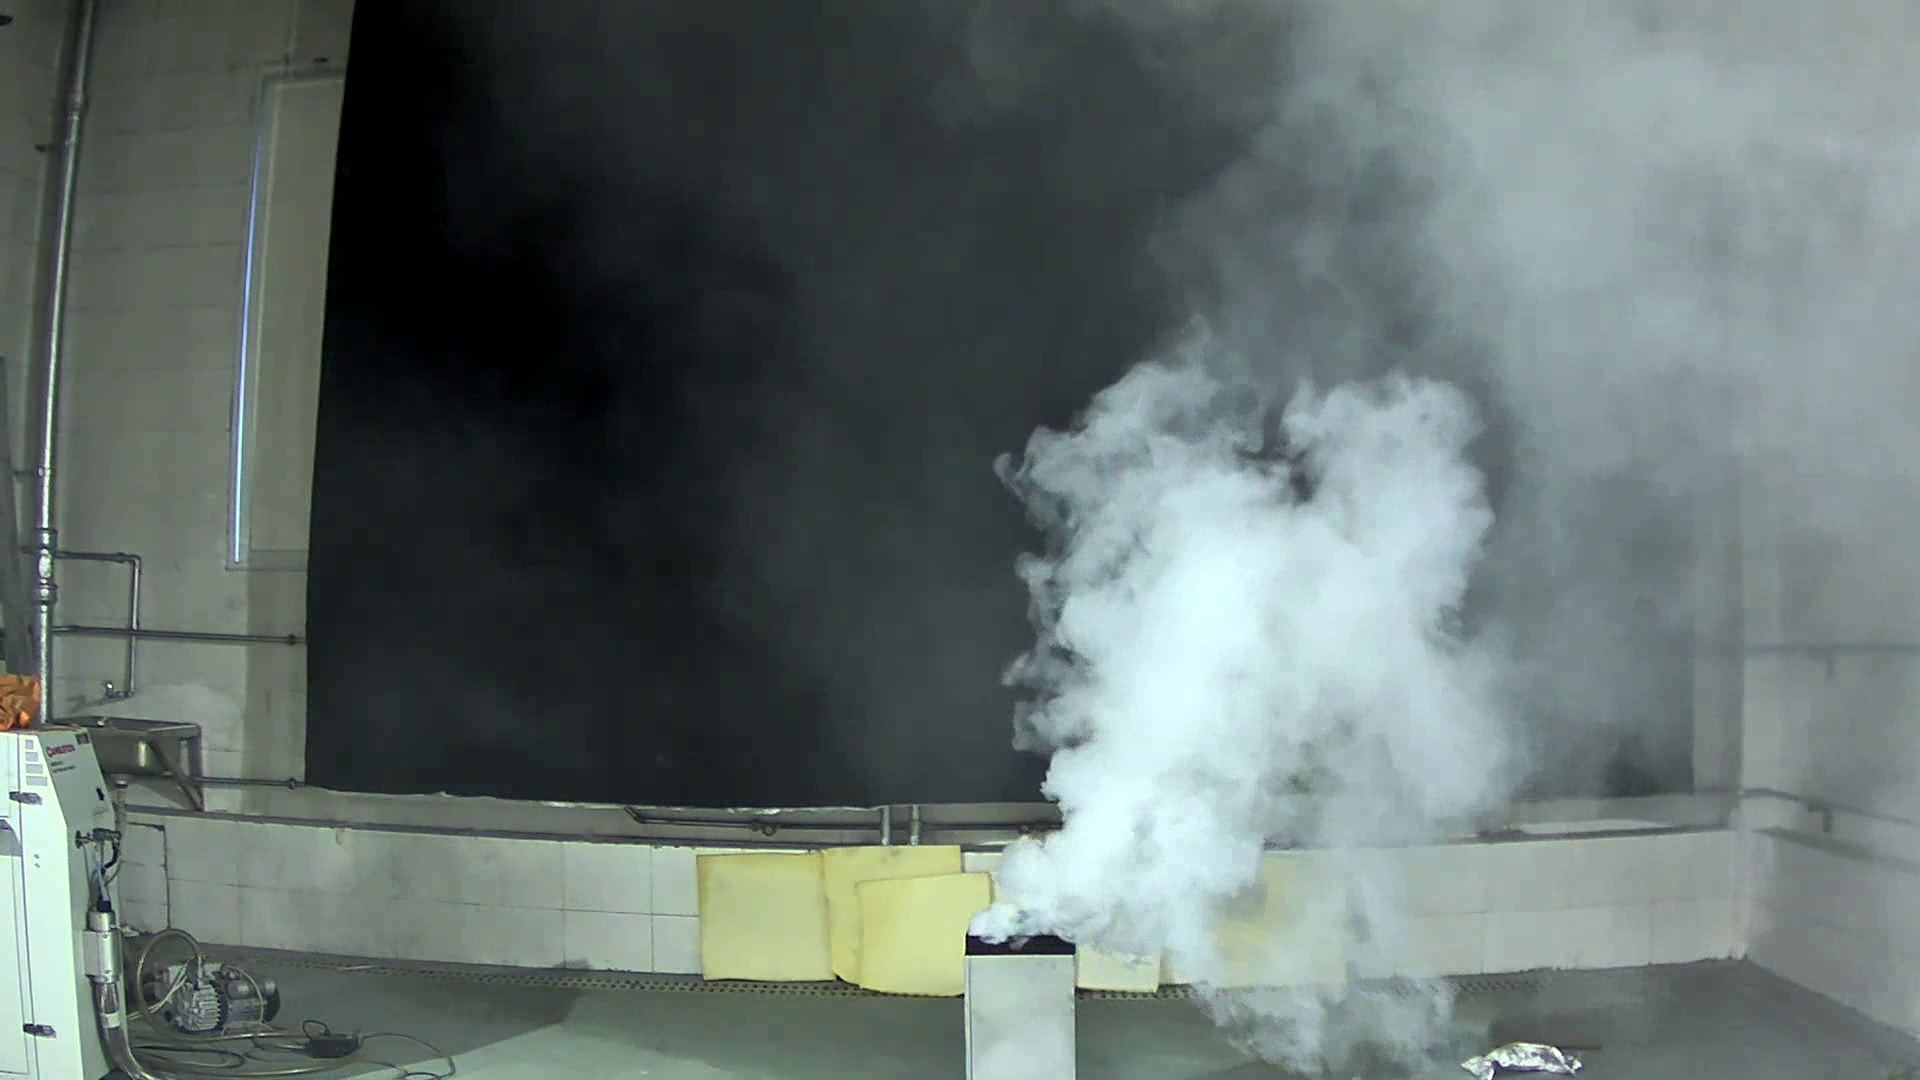smoke: (988, 351, 1520, 984)
